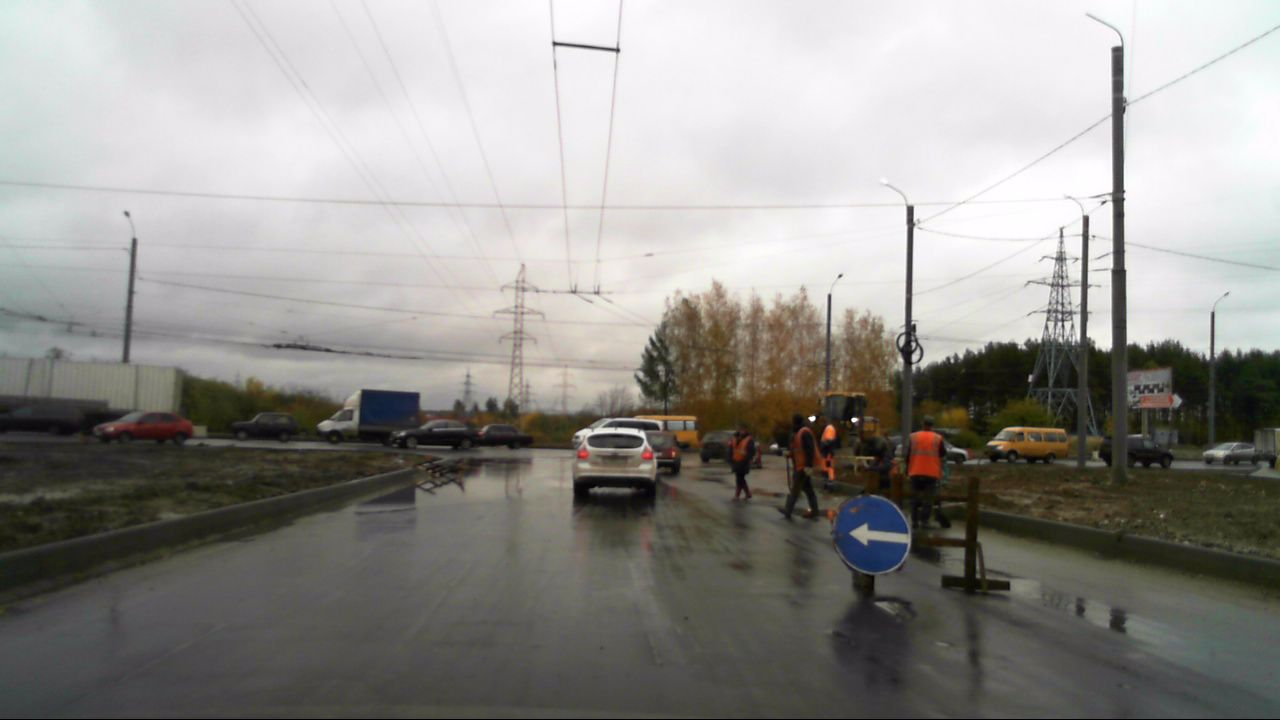Turn Left: (831, 494, 911, 574)
